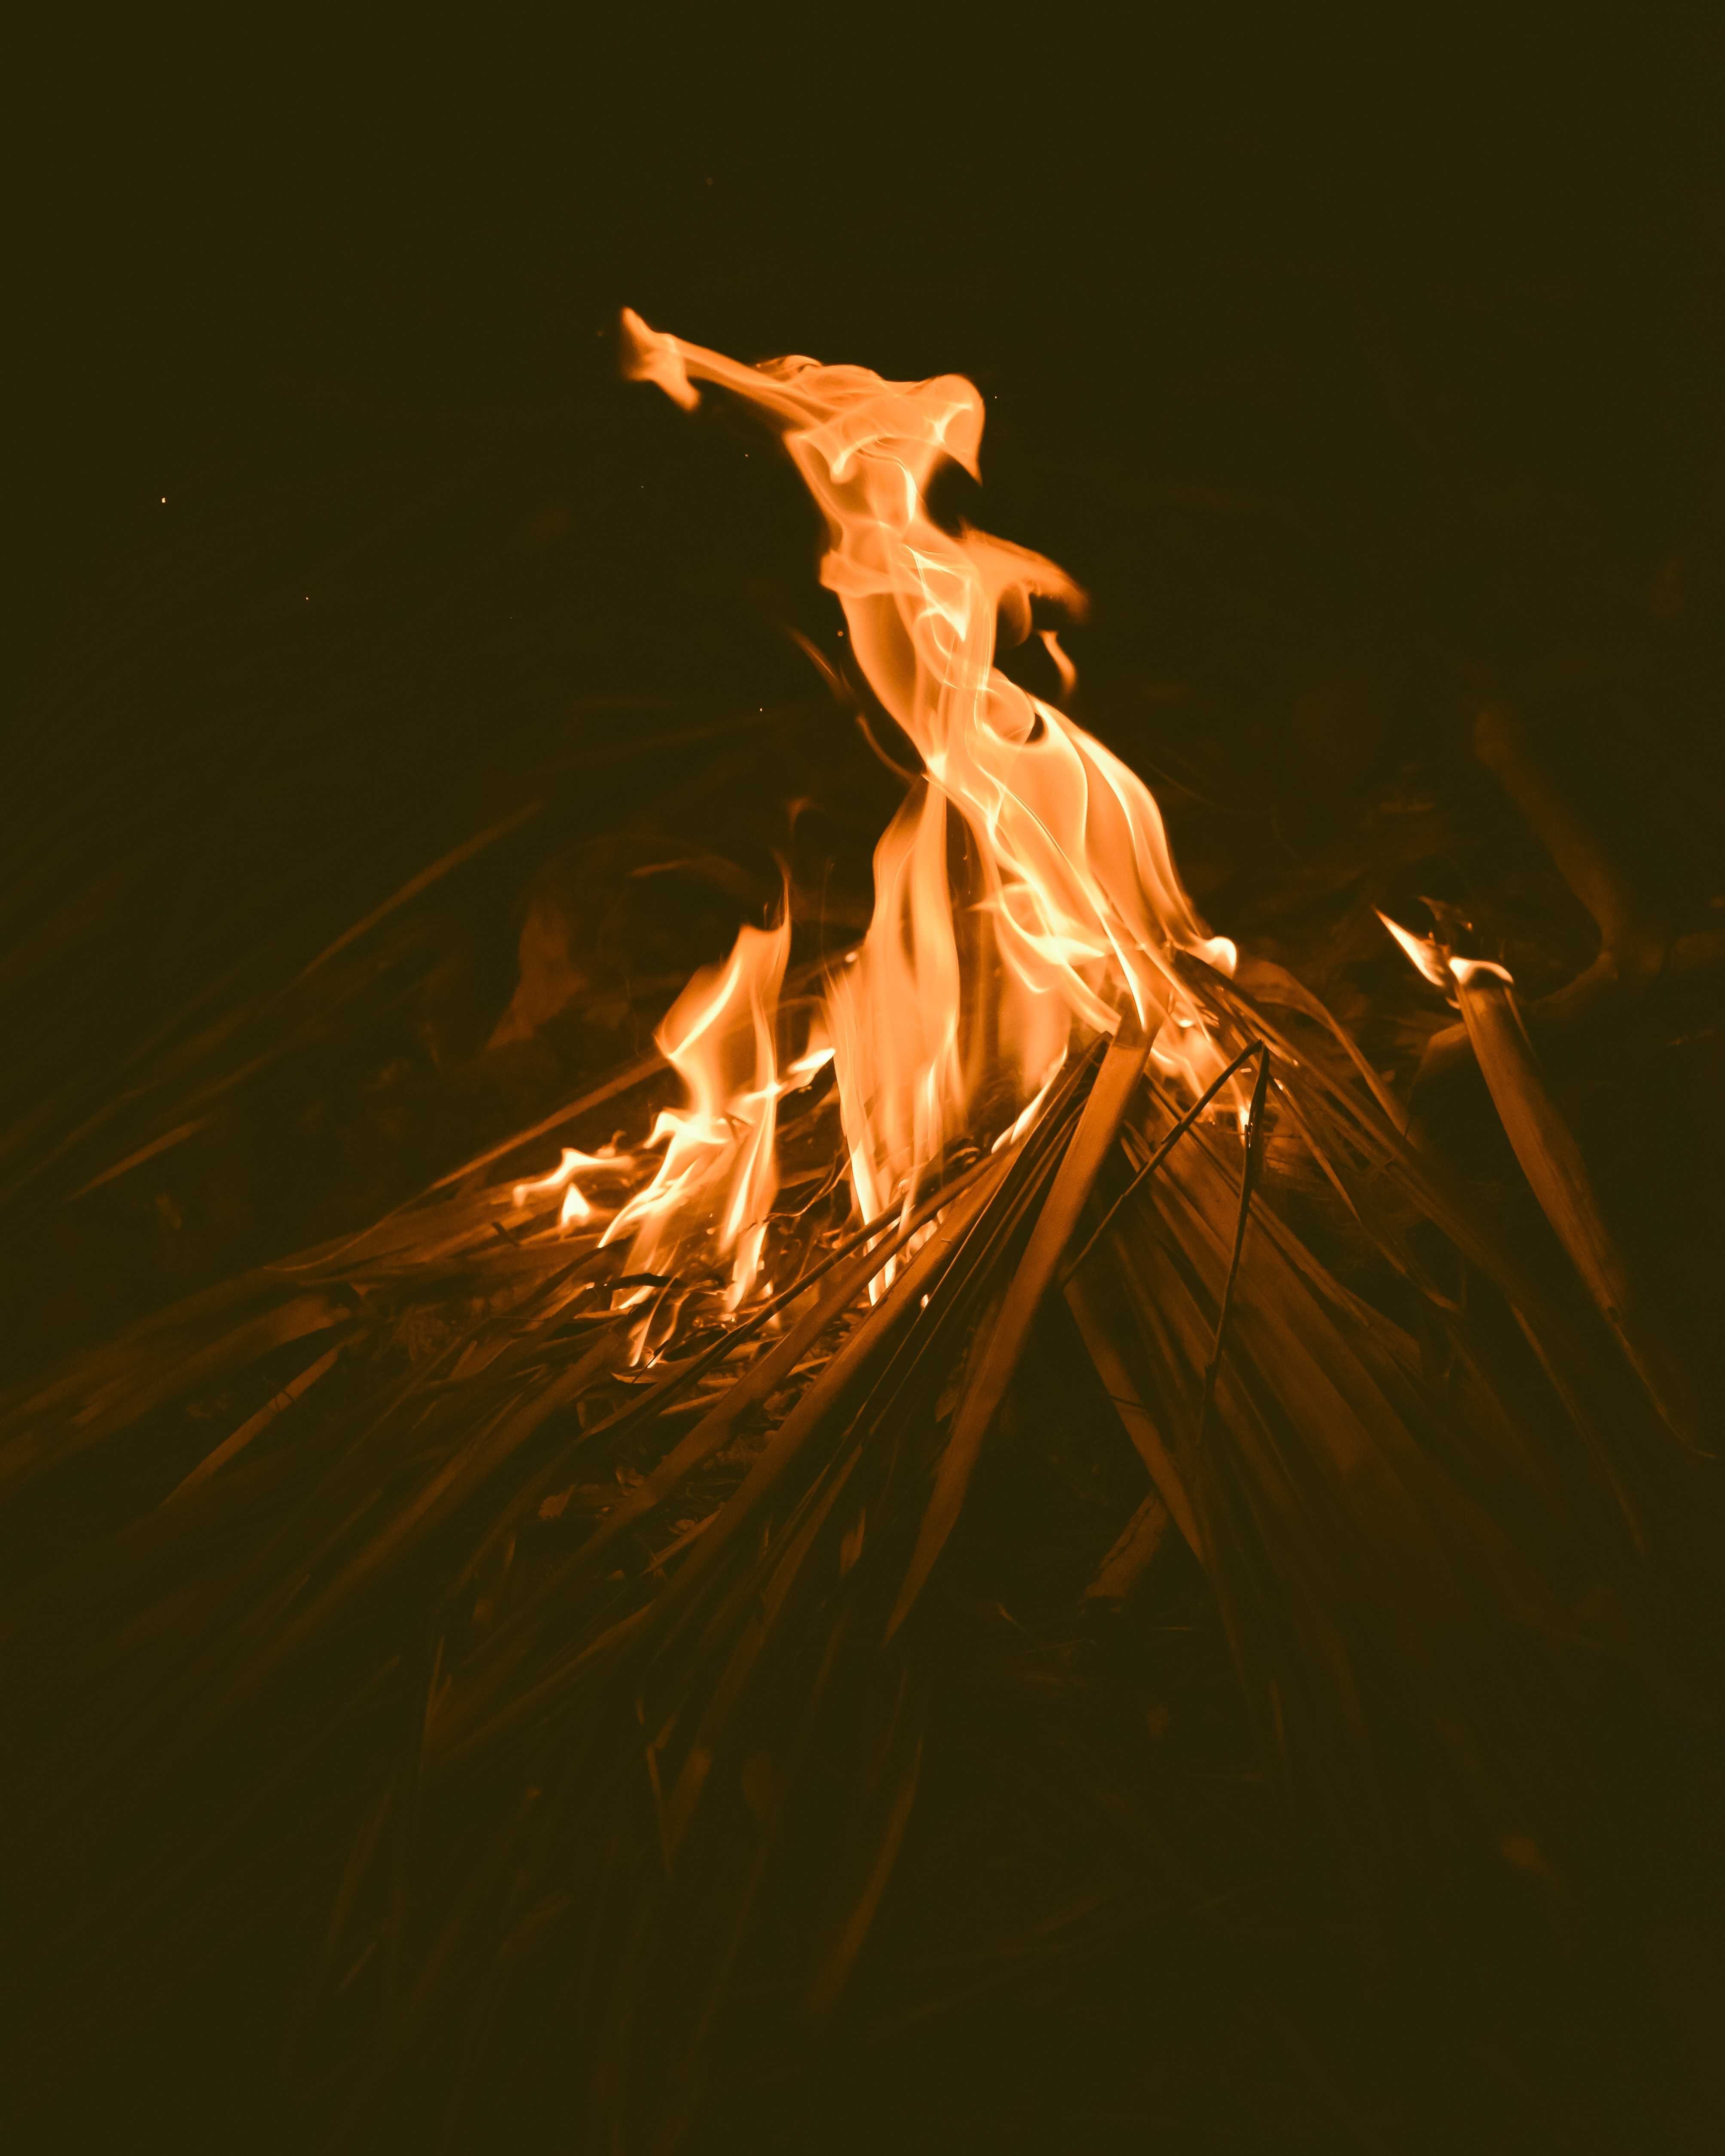fire: (505, 241, 1512, 1426)
